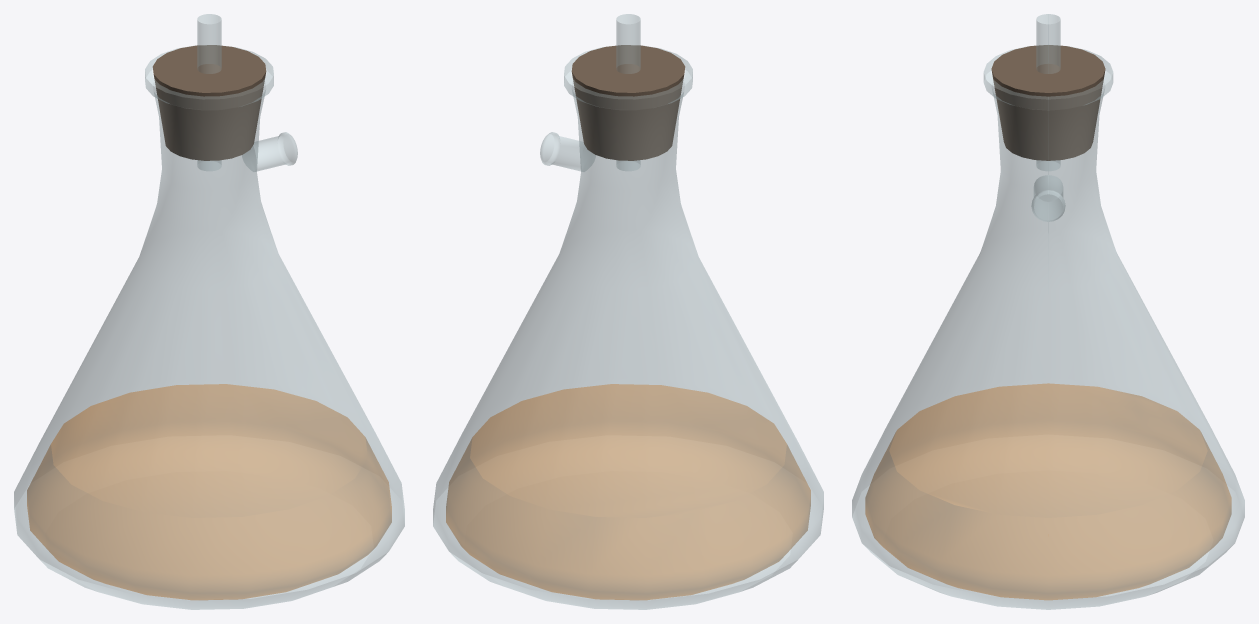
Rendered from aspiratorflask.fbx.
3 views of the same model, side by side, from view 1: azimuth 30°, elevation 25°; view 2: azimuth 150°, elevation 25°; view 3: azimuth 270°, elevation 25° (orthographic).
Parts seen in each view (by area): view 1: aspirator-flask, aspirator-fluid, aspirator-stopper, aspirator-in, aspirator-out; view 2: aspirator-flask, aspirator-fluid, aspirator-stopper, aspirator-in, aspirator-out; view 3: aspirator-flask, aspirator-fluid, aspirator-stopper, aspirator-in, aspirator-out.
Boxes of the visible parts, <box> form: aspirator-flask: <box>14,45,404,609</box>; aspirator-fluid: <box>27,384,391,599</box>; aspirator-stopper: <box>152,45,266,160</box>; aspirator-in: <box>197,14,221,170</box>; aspirator-out: <box>242,132,297,171</box>; aspirator-flask: <box>433,45,823,609</box>; aspirator-fluid: <box>446,384,810,599</box>; aspirator-stopper: <box>571,45,685,160</box>; aspirator-in: <box>616,14,640,170</box>; aspirator-out: <box>540,132,595,171</box>; aspirator-flask: <box>852,45,1244,609</box>; aspirator-fluid: <box>865,383,1231,599</box>; aspirator-stopper: <box>991,45,1105,160</box>; aspirator-in: <box>1036,14,1060,170</box>; aspirator-out: <box>1031,175,1065,221</box>.
Bounding box in the file's own units: 15.19 × 22.24 × 15.19.
